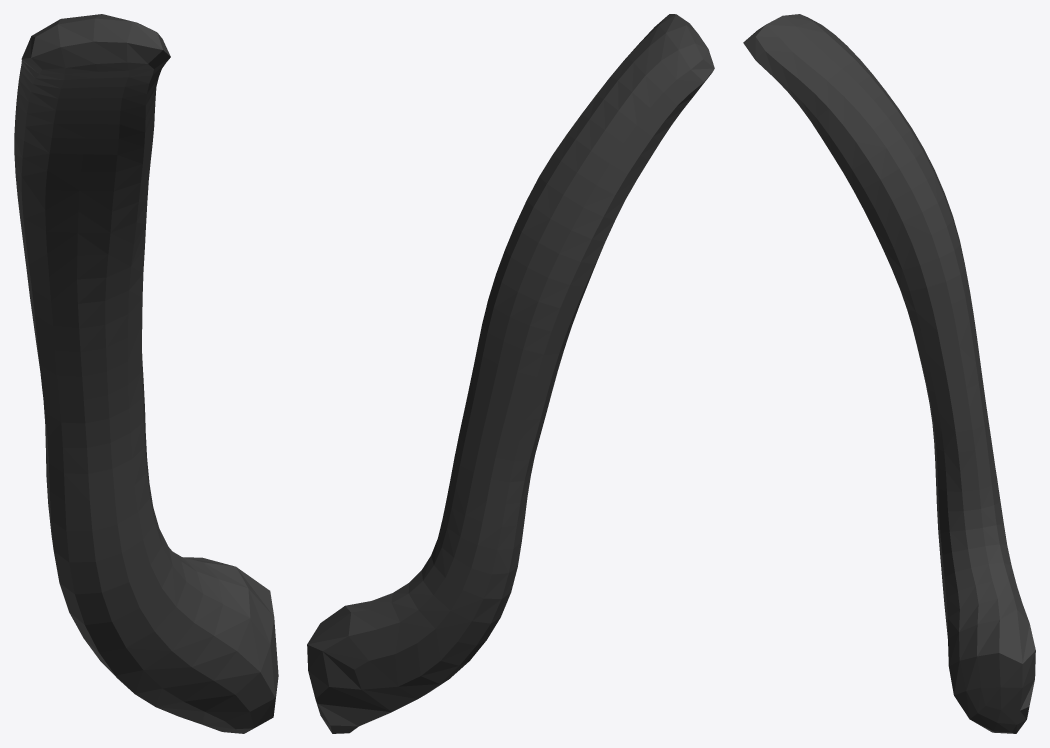
File: Meniscofemoral_lig.glb
3 views of the same model, side by side, from view 1: azimuth 30°, elevation 25°; view 2: azimuth 150°, elevation 25°; view 3: azimuth 270°, elevation 25° (orthographic). The views are drawn at different scales.
Visible parts, largest first — view 1: Meniscofemoral_lig; view 2: Meniscofemoral_lig; view 3: Meniscofemoral_lig.
Part boxes in pixels (bbox=[...]): Meniscofemoral_lig: bbox=[14, 14, 278, 733]; Meniscofemoral_lig: bbox=[307, 14, 714, 733]; Meniscofemoral_lig: bbox=[743, 14, 1035, 733].
Bounding box in the file's own units: 0.343 × 0.7673 × 0.3303.
Materials: 1 (1 with a texture image).
